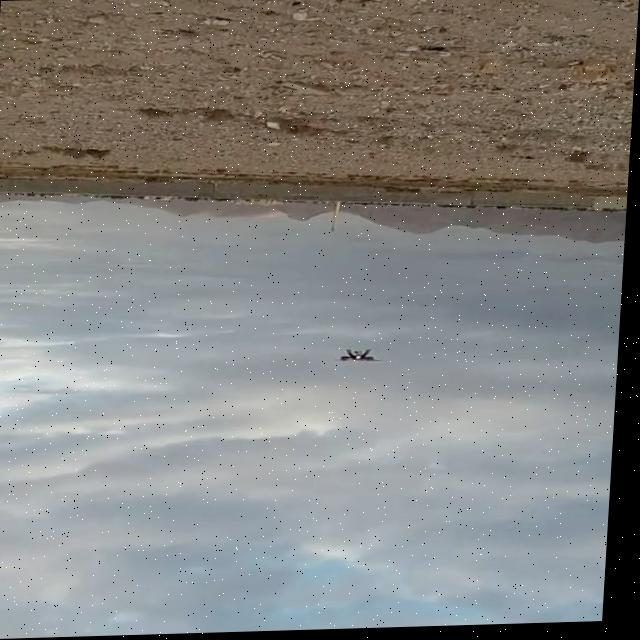drone: (335, 345, 390, 369)
